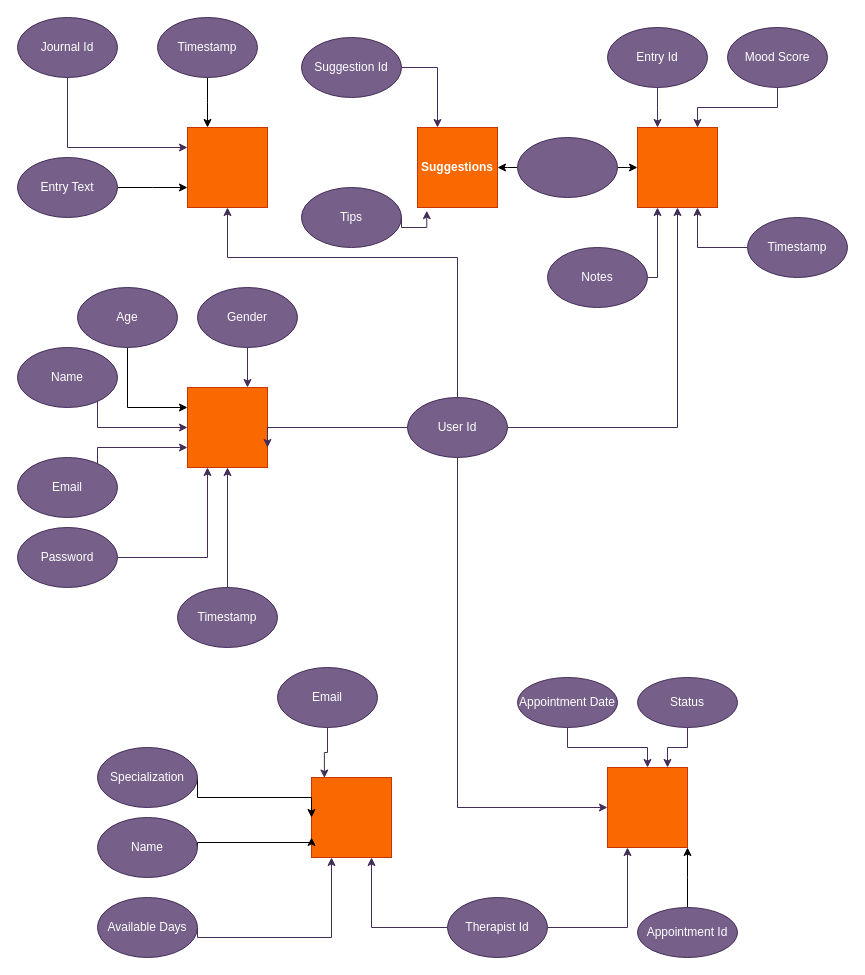
Some shapes in this 865 by 975 pixel diagram are drawn without their labels. The shapes that lost their labels are listed below. From the top down, each one's box as (x1, y1, x2, y2) in pixels, then its label:
(186, 126, 268, 208): Journals
(516, 136, 618, 198): Mood Enum
(636, 126, 718, 208): Mood Entries
(186, 386, 268, 468): User
(310, 776, 392, 858): Therapist
(606, 766, 688, 848): Appointments
